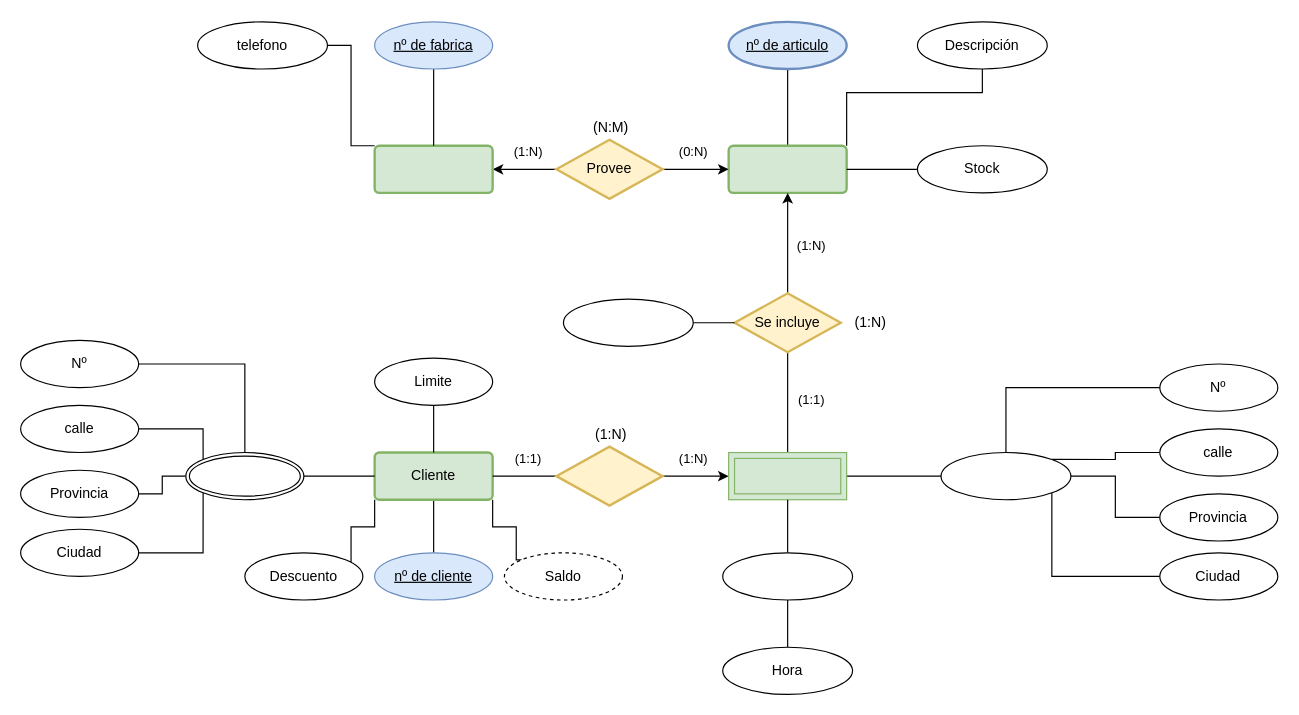
Some shapes in this 1299 by 715 pixel diagram are drawn without their labels. Each missing label, with the centre of its shape:
"Articulo" goes at (787,169).
"Cantidad" goes at (627,322).
"Diercción" goes at (244,475).
"dirección de Envio" goes at (1005,475).
"Fabrica" goes at (433,169).
"Fecha" goes at (787,576).
"hacer" goes at (609,475).
"Pedido" goes at (787,475).
